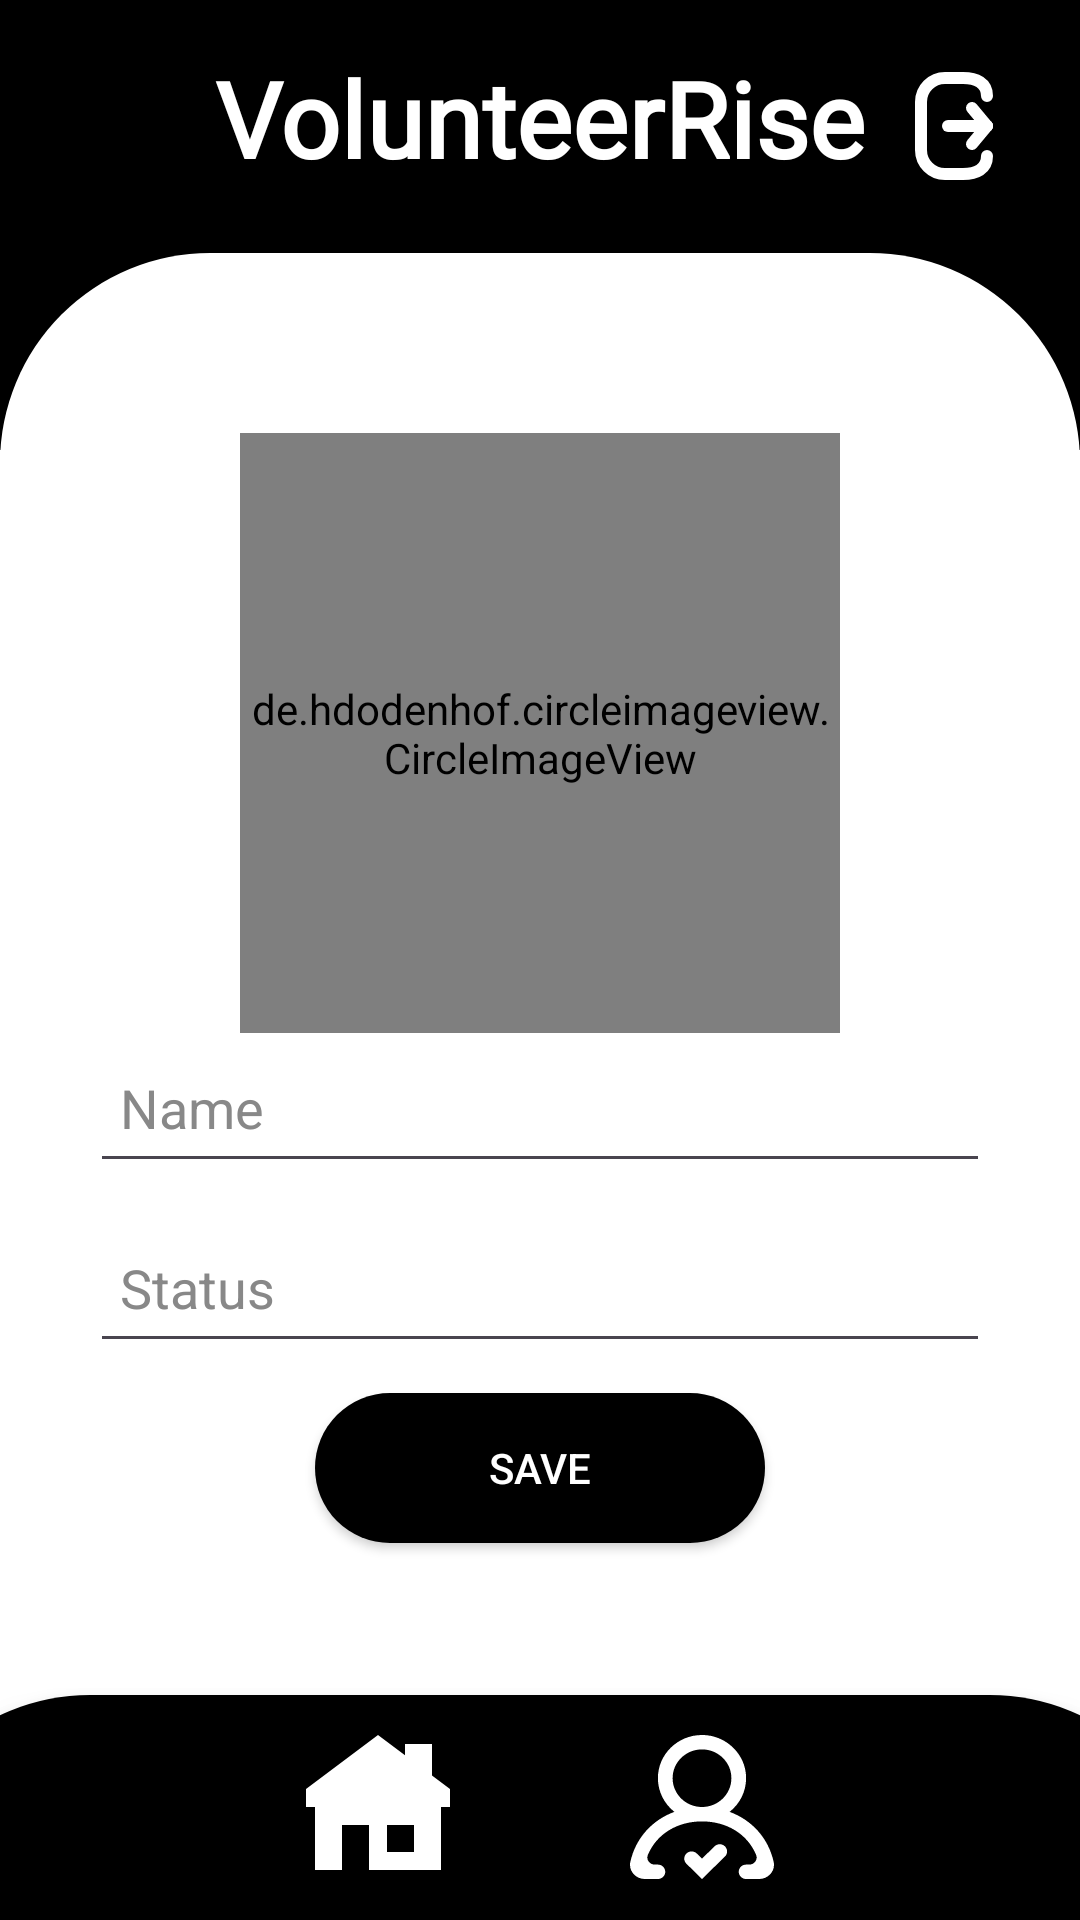

Screen size 1080w x 1920h. Icon name, then its center in pixels as point (x, y):
Home: point (378, 1802)
Profile: point (702, 1807)
